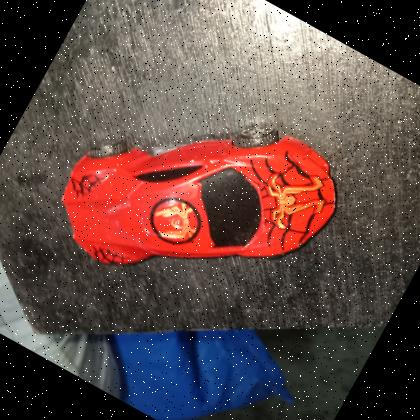Car: (61, 134, 338, 265)
